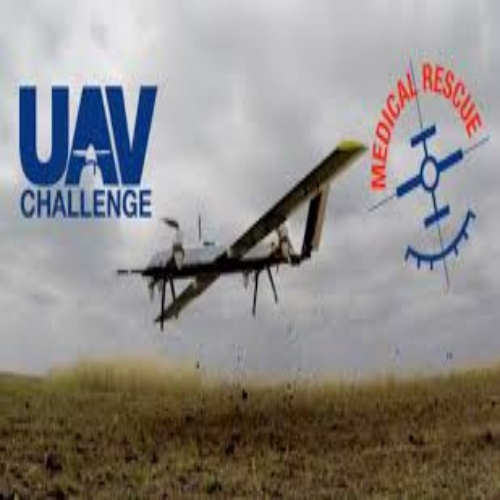uav725: (119, 140, 369, 327)
